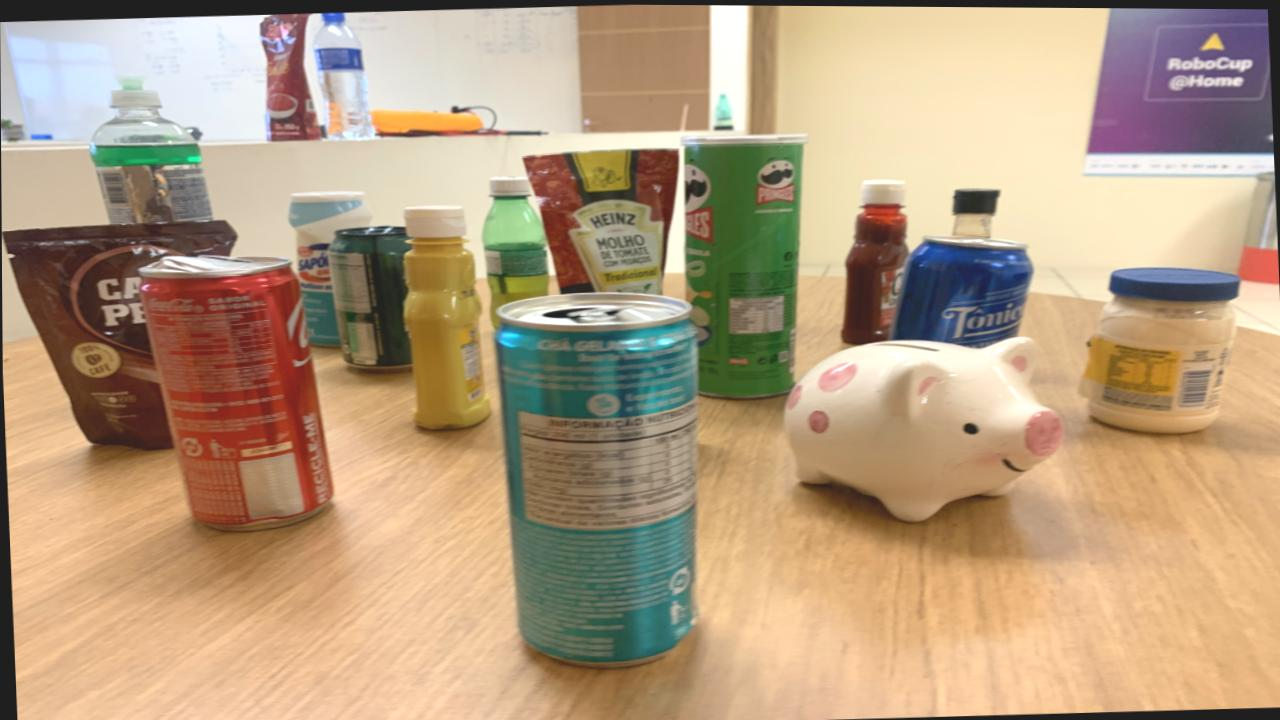Cleaner-Cleanup_Items: (288, 190, 373, 346)
Coffee-Pantry_Items: (2, 220, 237, 450)
Coke-Drinks: (141, 258, 332, 530)
Detergent-Cleanup_Items: (90, 76, 211, 223)
English_Sauce-Pantry_Items: (952, 187, 1000, 238)
Guarana-Drinks: (482, 176, 549, 327)
Guarana_Can-Drinks: (327, 225, 412, 368)
Ketchup-Pantry_Items: (841, 178, 908, 343)
Mayonnaise-Pantry_Items: (2, 220, 237, 450), (1078, 266, 1239, 431)
Mustard-Pantry_Items: (403, 204, 489, 428)
Pig_Safe-Miscellaneous: (784, 336, 1065, 521)
Pringles-Snacks: (683, 133, 806, 397)
Tea-Drinks: (496, 293, 698, 665)
Tomato_Sauce-Pantry_Items: (524, 147, 679, 294), (261, 13, 320, 142)
Tonic-Drinks: (888, 235, 1033, 347)
Water_Bottle-Drinks: (314, 12, 375, 140)
